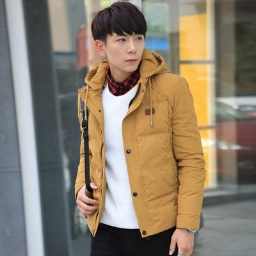face: (92, 2, 146, 73)
